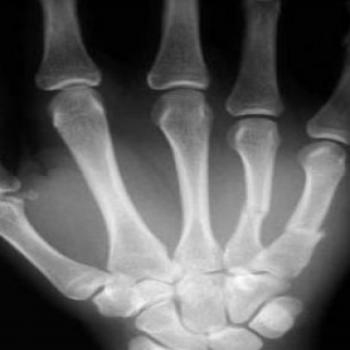Fracture: (282, 220, 330, 243), (236, 197, 274, 220)
